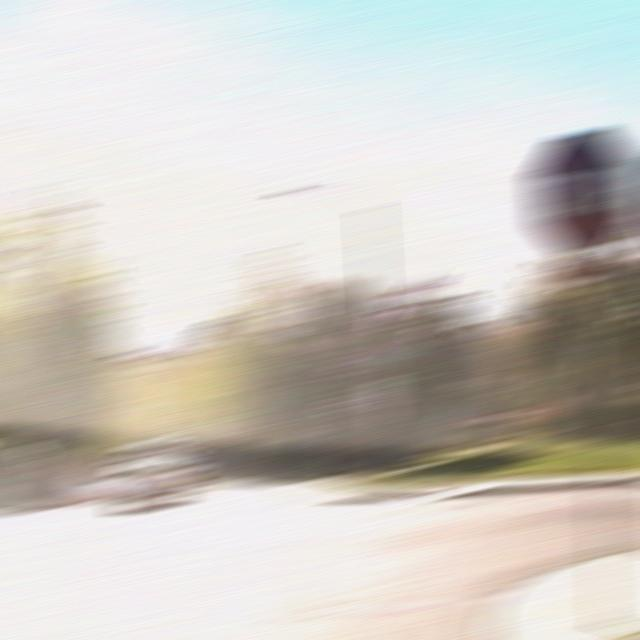stop_sign: (530, 130, 639, 253)
